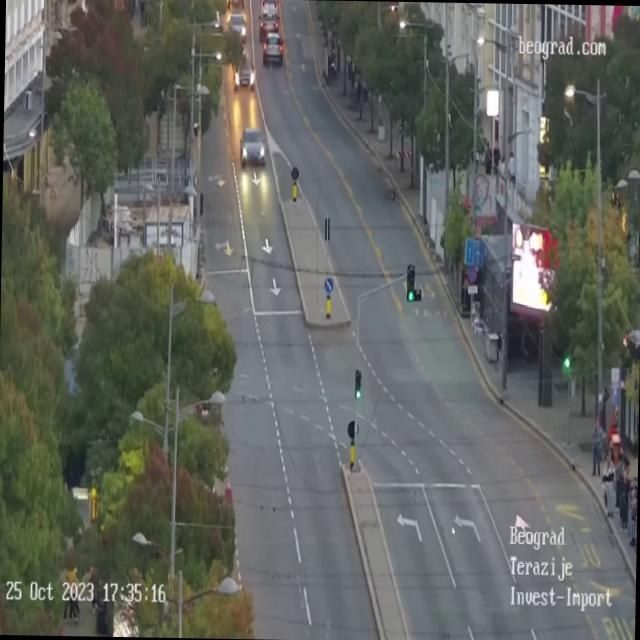car: (238, 127, 266, 167), (260, 32, 284, 68), (232, 57, 255, 90), (226, 13, 246, 41), (258, 15, 282, 37), (257, 0, 280, 18)
